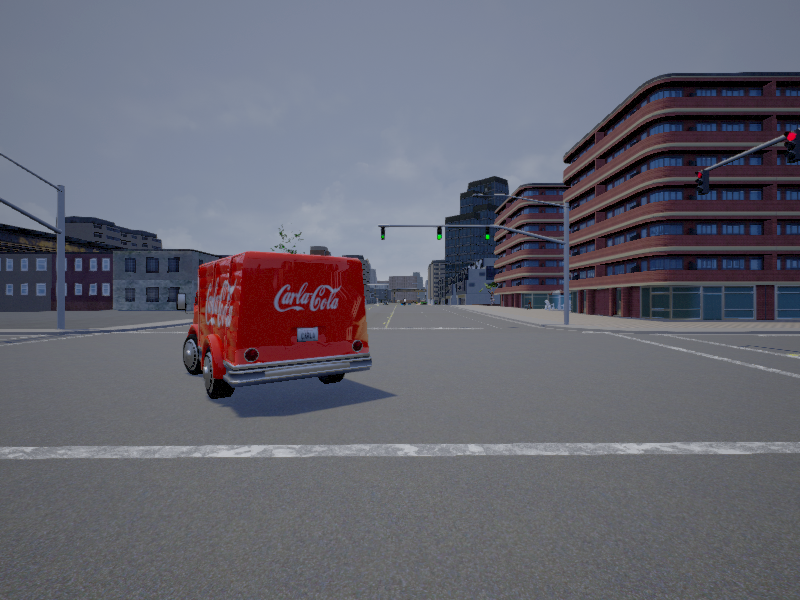Benign: (182, 253, 372, 399)
